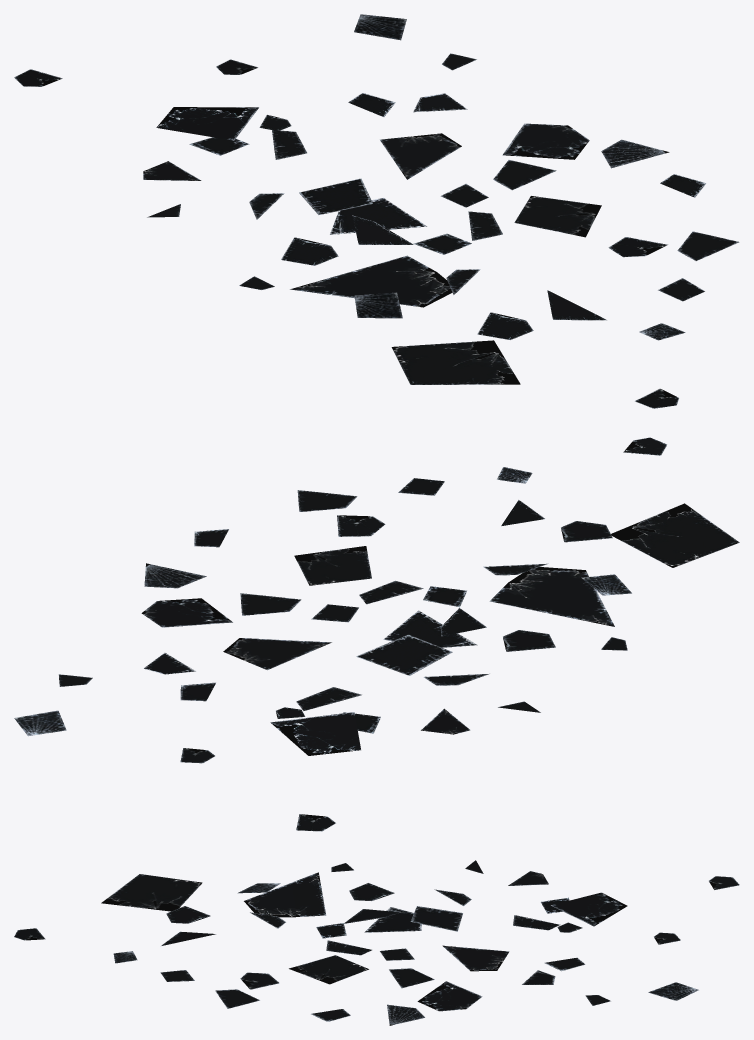
File: brokenglass_pile08_no_alpha_lod2.glb
The picture shows the model from 3 angles, top to bottom: view 1: azimuth 30°, elevation 25°; view 2: azimuth 150°, elevation 25°; view 3: azimuth 270°, elevation 25°; orthographic projection. The views are drawn at different scales.
Parts seen in each view (by area): view 1: surf0; view 2: surf0; view 3: surf0.
Part boxes in pixels (x1,y1,x2,y2): surf0: (14,14,739,408); surf0: (14,437,739,831); surf0: (14,860,739,1025).
Size of the model in its own units: 77.81 by 2.1 by 146.
